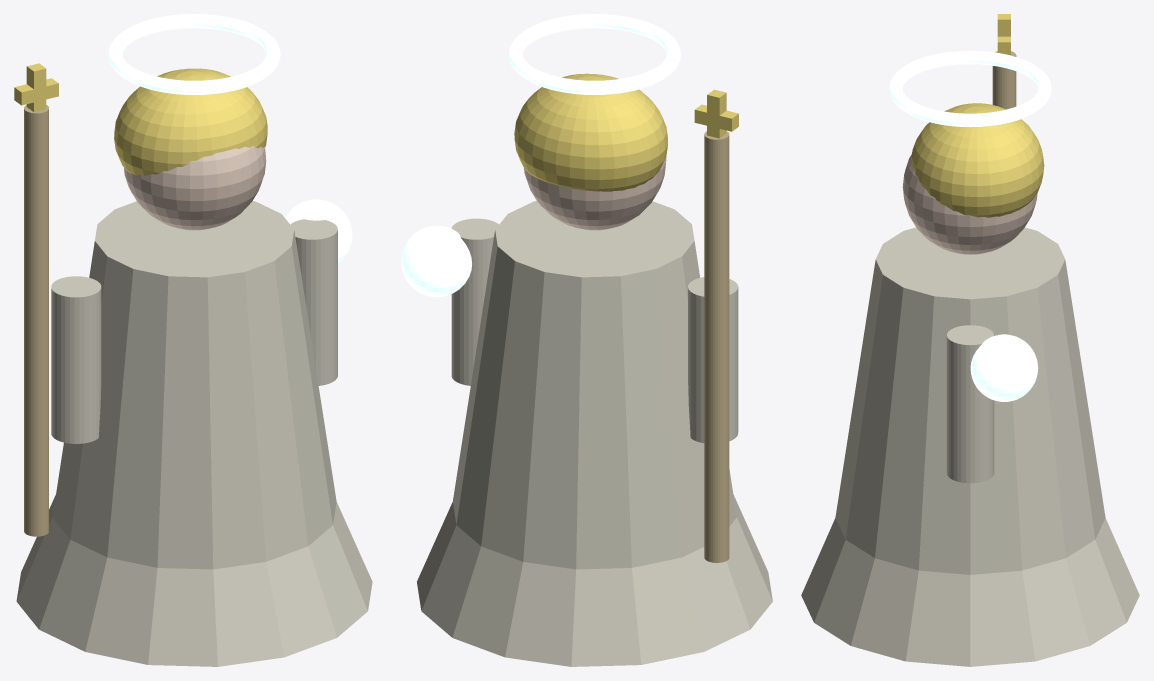
File: hero_healer.glb
3 renders of one model, left to right at view 1: azimuth 30°, elevation 25°; view 2: azimuth 150°, elevation 25°; view 3: azimuth 270°, elevation 25°, orthographic. The views are drawn at different scales.
Visible parts, largest first — view 1: Healer_Body, Healer_RobeBottom, Healer_Hair, Healer_Staff, Healer_Arm_L, Healer_Head, Healer_Halo, Healer_Arm_R, Healer_Orb, Healer_CrossV, Healer_CrossH; view 2: Healer_Body, Healer_RobeBottom, Healer_Hair, Healer_Staff, Healer_Halo, Healer_Head, Healer_Arm_R, Healer_Arm_L, Healer_Orb, Healer_CrossH, Healer_CrossV; view 3: Healer_Body, Healer_RobeBottom, Healer_Hair, Healer_Arm_R, Healer_Head, Healer_Halo, Healer_Orb, Healer_Staff.
Part boxes in pixels (x1,y1,x2,y2): Healer_Body: [52, 201, 336, 569]; Healer_RobeBottom: [16, 495, 372, 666]; Healer_Hair: [114, 68, 267, 175]; Healer_Staff: [24, 105, 48, 536]; Healer_Arm_L: [51, 276, 101, 443]; Healer_Head: [124, 146, 266, 230]; Healer_Halo: [108, 14, 280, 94]; Healer_Arm_R: [290, 219, 337, 385]; Healer_Orb: [285, 199, 352, 263]; Healer_CrossV: [26, 63, 46, 111]; Healer_CrossH: [14, 78, 58, 105]; Healer_Body: [453, 201, 736, 569]; Healer_RobeBottom: [417, 494, 772, 666]; Healer_Hair: [514, 73, 667, 191]; Healer_Staff: [704, 131, 729, 562]; Healer_Halo: [508, 14, 680, 94]; Healer_Head: [524, 156, 666, 230]; Healer_Arm_R: [451, 218, 498, 385]; Healer_Arm_L: [688, 277, 738, 442]; Healer_Orb: [401, 225, 471, 297]; Healer_CrossH: [694, 104, 738, 131]; Healer_CrossV: [707, 89, 726, 138]; Healer_Body: [835, 227, 1105, 574]; Healer_RobeBottom: [801, 518, 1139, 666]; Healer_Hair: [911, 103, 1044, 217]; Healer_Arm_R: [946, 325, 994, 483]; Healer_Head: [902, 155, 1037, 254]; Healer_Halo: [889, 50, 1051, 127]; Healer_Orb: [970, 334, 1038, 401]; Healer_Staff: [992, 51, 1016, 109].
Bounding box in the file's own units: 1.06 × 1.78 × 1.
